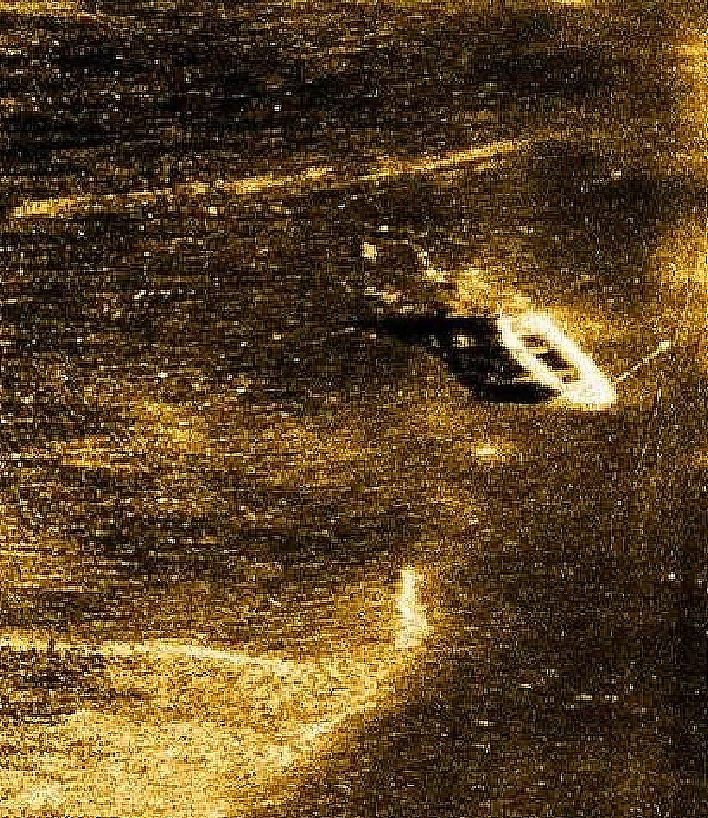ship: (491, 311, 621, 410)
